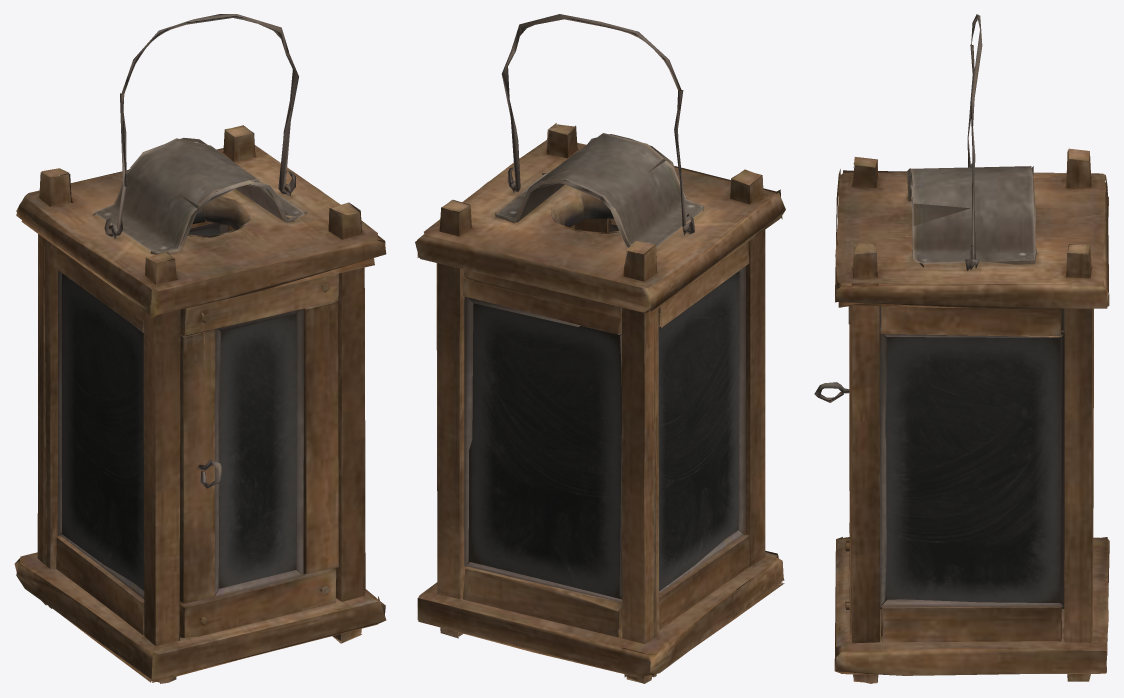
File: wooden_lantern_01.glb
3 renders of one model, left to right at view 1: azimuth 30°, elevation 25°; view 2: azimuth 150°, elevation 25°; view 3: azimuth 270°, elevation 25°, orthographic.
Visible parts, largest first — view 1: wooden_lantern_01, wooden_lantern_01_door, wooden_lantern_01_handle; view 2: wooden_lantern_01, wooden_lantern_01_handle; view 3: wooden_lantern_01, wooden_lantern_01_handle, wooden_lantern_01_door.
Boxes of the visible parts, bbox=[...] form: wooden_lantern_01: bbox=[14, 125, 386, 683]; wooden_lantern_01_door: bbox=[180, 273, 338, 637]; wooden_lantern_01_handle: bbox=[104, 14, 298, 236]; wooden_lantern_01: bbox=[415, 123, 785, 683]; wooden_lantern_01_handle: bbox=[501, 14, 694, 234]; wooden_lantern_01: bbox=[834, 148, 1109, 683]; wooden_lantern_01_handle: bbox=[967, 14, 982, 270]; wooden_lantern_01_door: bbox=[814, 306, 850, 609].
Bounding box in the file's own units: 0.2194 × 0.5282 × 0.2343.
Materials: 2 (2 with a texture image).
